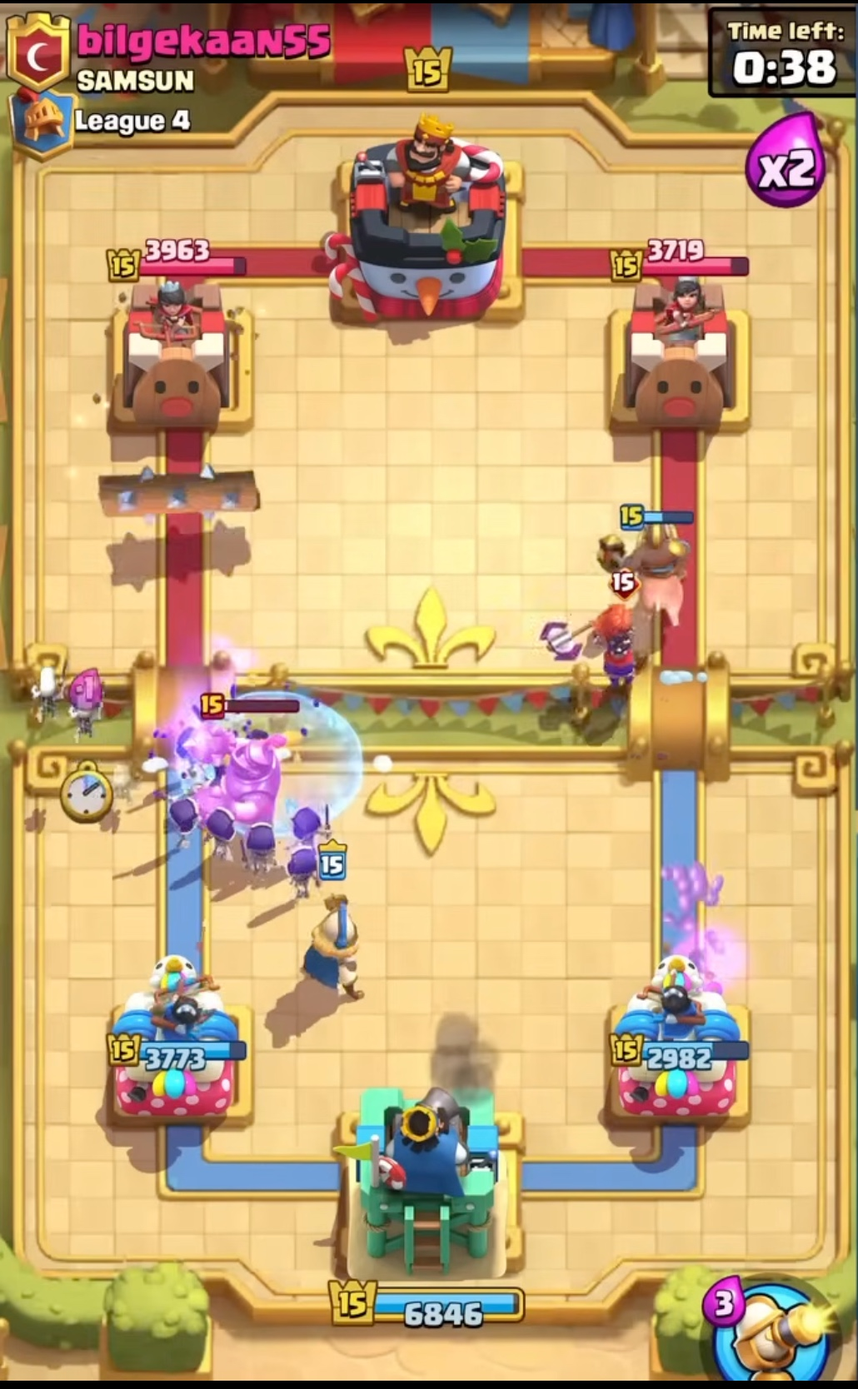evo_skeletons: (242, 815, 284, 886), (202, 798, 240, 870), (163, 788, 207, 850), (287, 842, 326, 903), (286, 804, 335, 847)
hero_musketeer: (298, 838, 369, 1010)
hog_rider: (591, 493, 704, 630)
